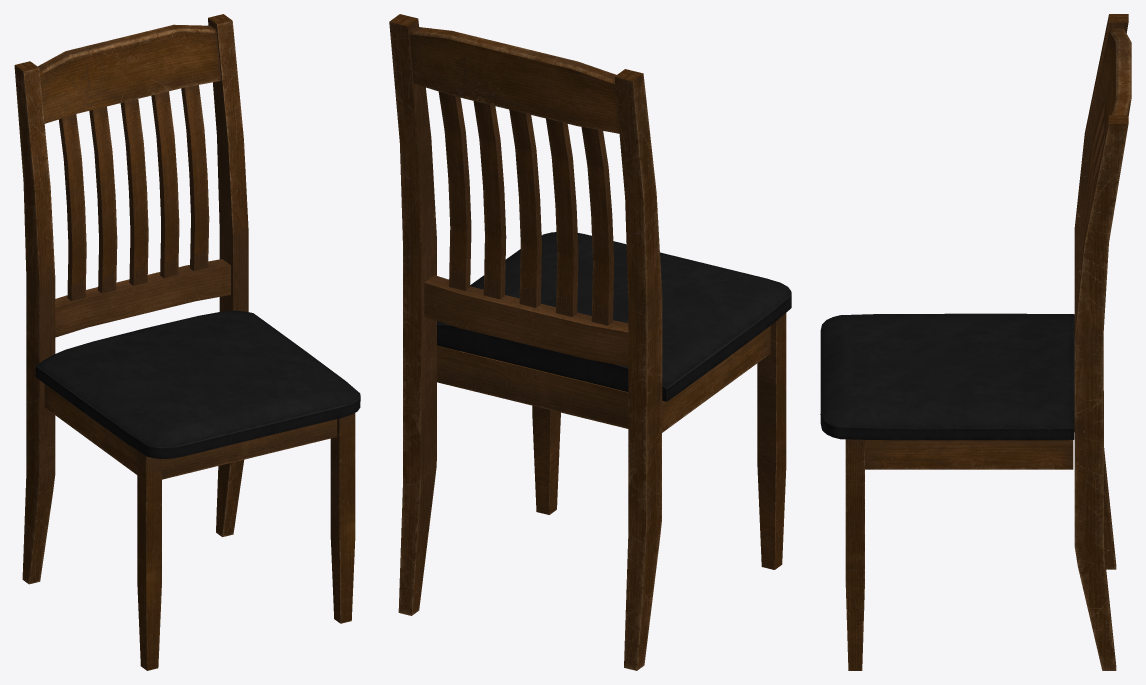
Rendered from old_wooden_chair.glb.
3 views of the same model, side by side, from view 1: azimuth 30°, elevation 25°; view 2: azimuth 150°, elevation 25°; view 3: azimuth 270°, elevation 25° (orthographic). The views are drawn at different scales.
Parts seen in each view (by area): view 1: chair; view 2: chair; view 3: chair.
Boxes of the visible parts, x1=… form: chair: x1=14, y1=14, x2=360, y2=670; chair: x1=389, y1=14, x2=791, y2=670; chair: x1=820, y1=14, x2=1131, y2=670.
Size of the model in its own units: 0.1735 by 0.3886 by 0.1993.
1 material, 1 textured.
